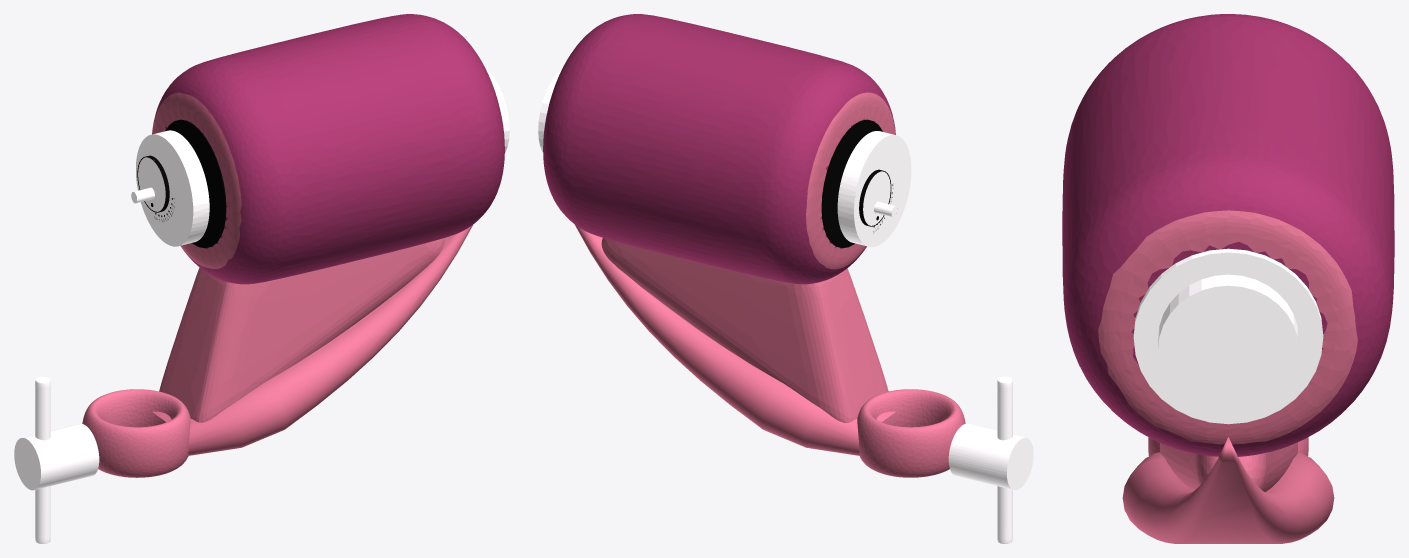
Rendered from medusa.glb.
3 views of the same model, side by side, from view 1: azimuth 30°, elevation 25°; view 2: azimuth 150°, elevation 25°; view 3: azimuth 270°, elevation 25° (orthographic). The views are drawn at different scales.
Visible parts, largest first — view 1: Rotary, CamWheel; view 2: Rotary, CamWheel; view 3: Rotary.
Part boxes in pixels (left/top/right/bottom): Rotary: left=14, top=14, right=509, bottom=543; CamWheel: left=131, top=130, right=209, bottom=246; Rotary: left=538, top=14, right=1033, bottom=543; CamWheel: left=837, top=131, right=911, bottom=247; Rotary: left=1062, top=14, right=1394, bottom=543.
Size of the model in its own units: 0.8335 by 0.7172 by 0.351.
4 materials, 1 textured.
